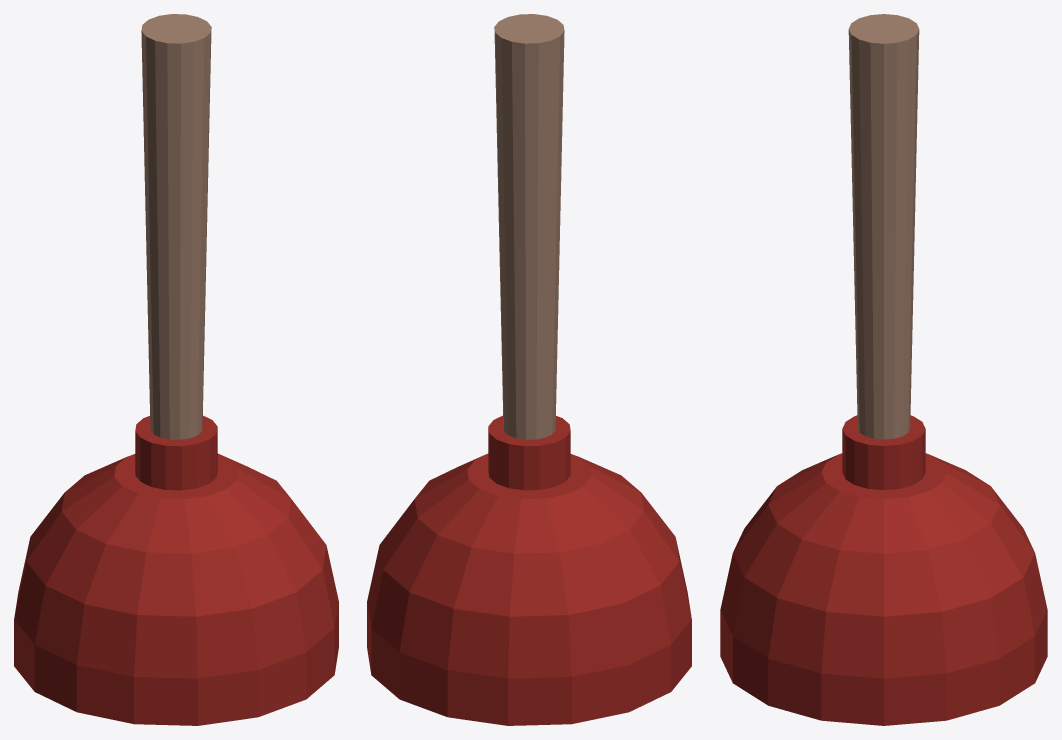
File: plunger.fbx
3 renders of one model, left to right at view 1: azimuth 30°, elevation 25°; view 2: azimuth 150°, elevation 25°; view 3: azimuth 270°, elevation 25°, orthographic.
Visible parts, largest first — view 1: Sphere; view 2: Sphere; view 3: Sphere.
Part boxes in pixels (x1,y1,x2,y2): Sphere: (14,14,338,725); Sphere: (367,14,691,725); Sphere: (720,14,1047,725).
Bounding box in the file's own units: 61.17 × 130 × 61.17.
